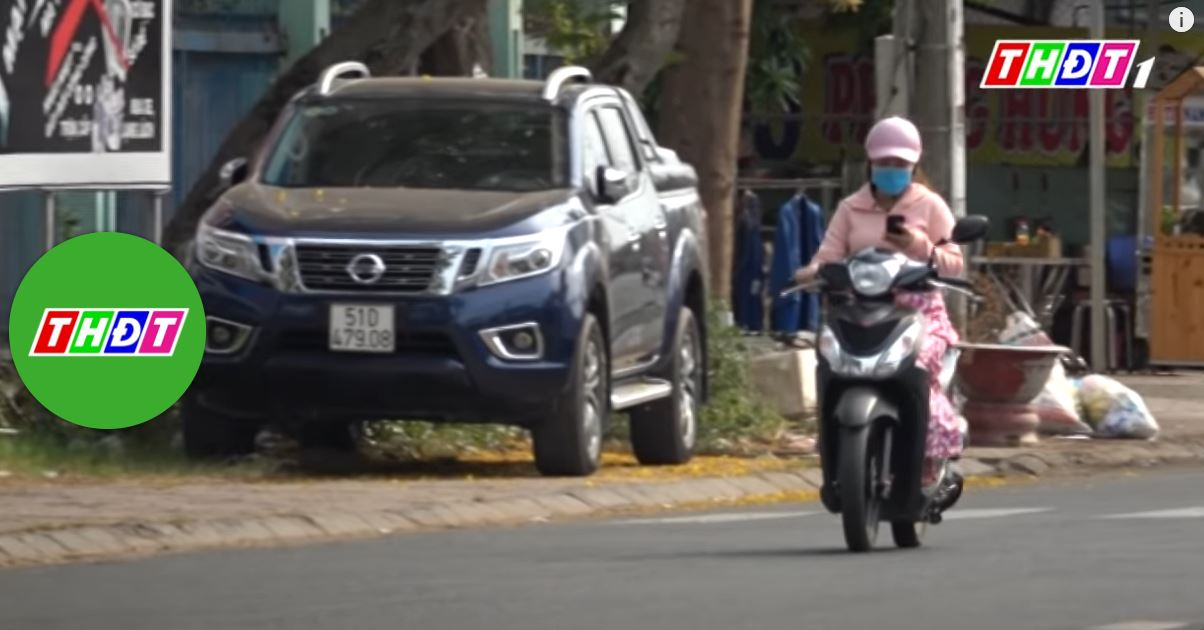dieu khien xe may: (810, 116, 936, 424)
